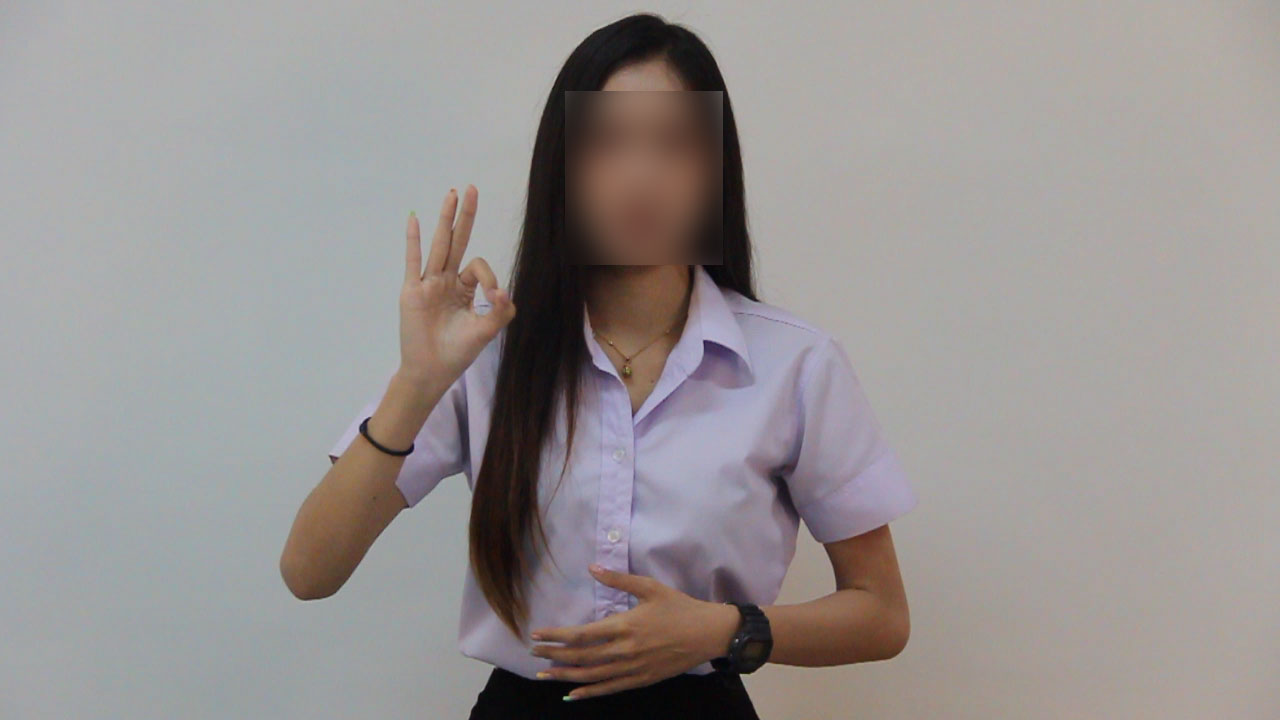for: (375, 170, 525, 398)
